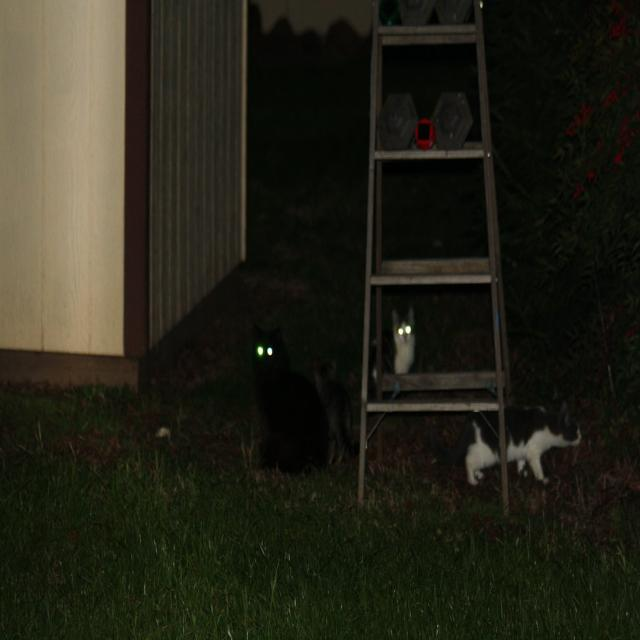Cat: (424, 386, 584, 498), (245, 320, 331, 474), (312, 350, 360, 488), (377, 306, 433, 404)
